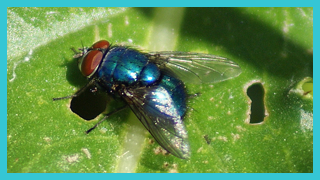green bottles fly: (49, 30, 244, 166)
